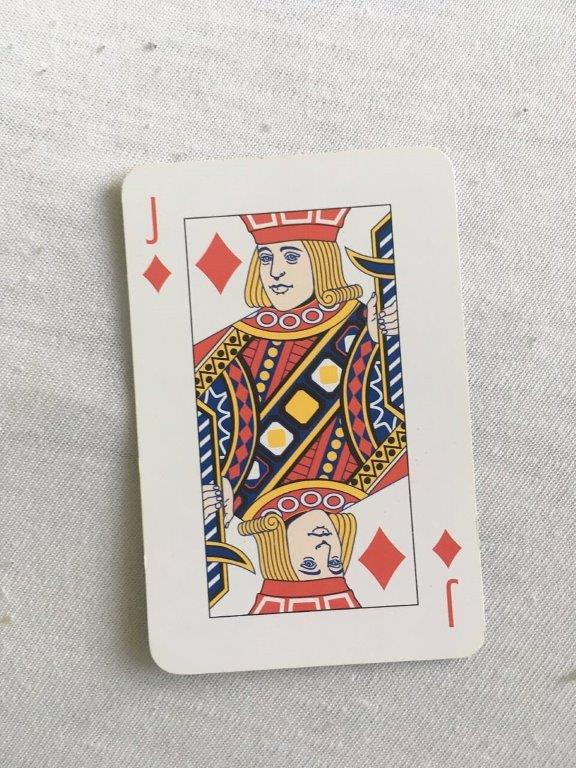JD: (116, 143, 490, 679)
